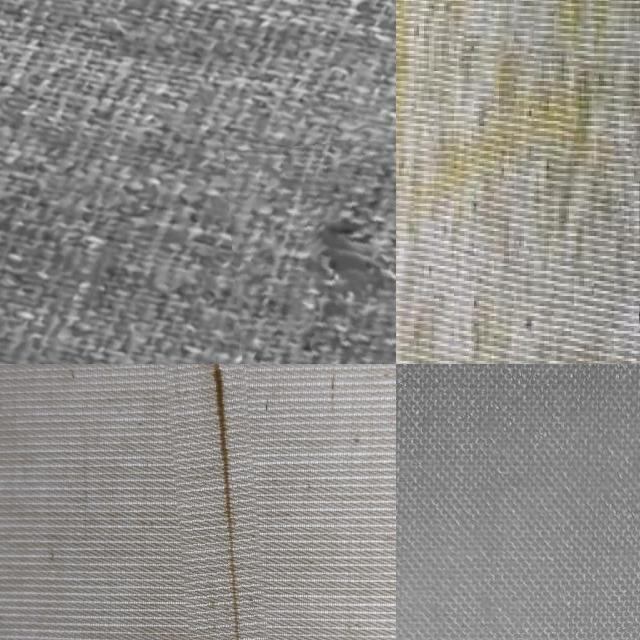other: (228, 138, 396, 364)
stains: (171, 364, 273, 640)
